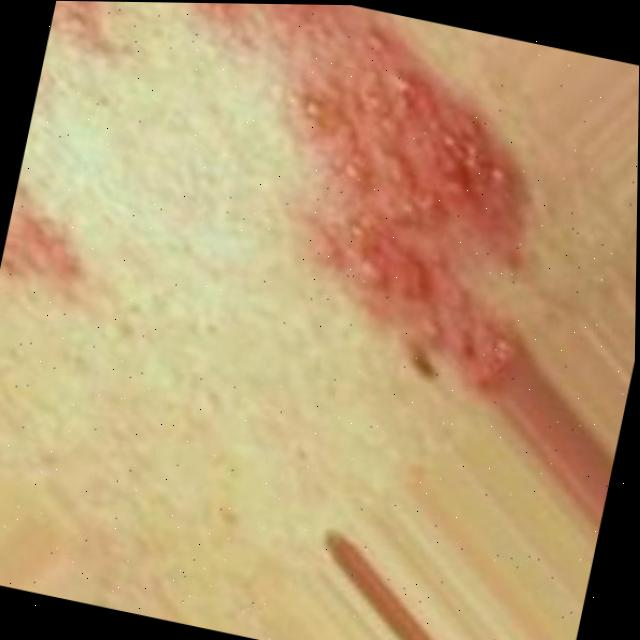Shingles: (0, 0, 593, 427)
